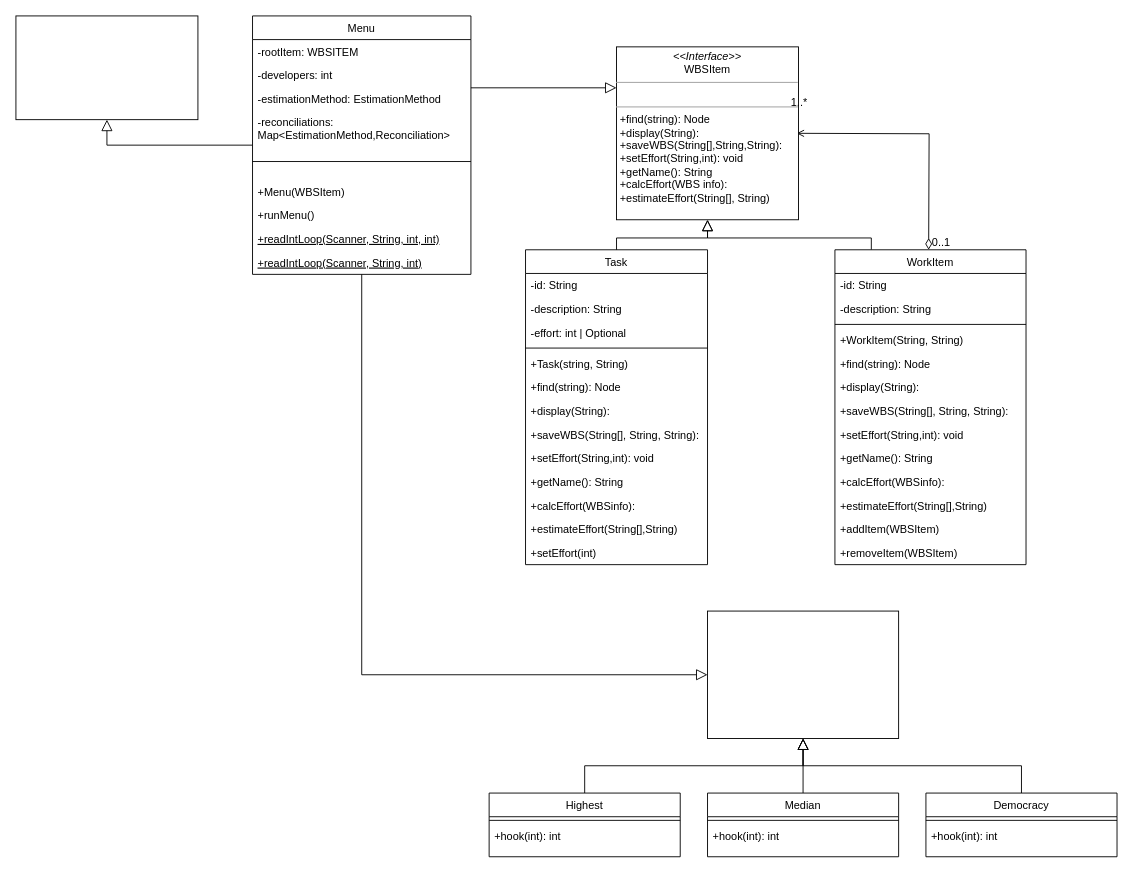
The diagram is 1133 pixels wide and 873 high, and some of its shapes have lost their labels. Here are the shapes that lost their labels. From the top down, the box of each, then its label:
(15, 15, 198, 120): <<Enumeration>> EstimationMethod Democracy Highest Median, Democracy
(707, 610, 899, 738): <<Abstract>> Reconciliation +reconciliation(WBSItem ) +hook(String): Task
